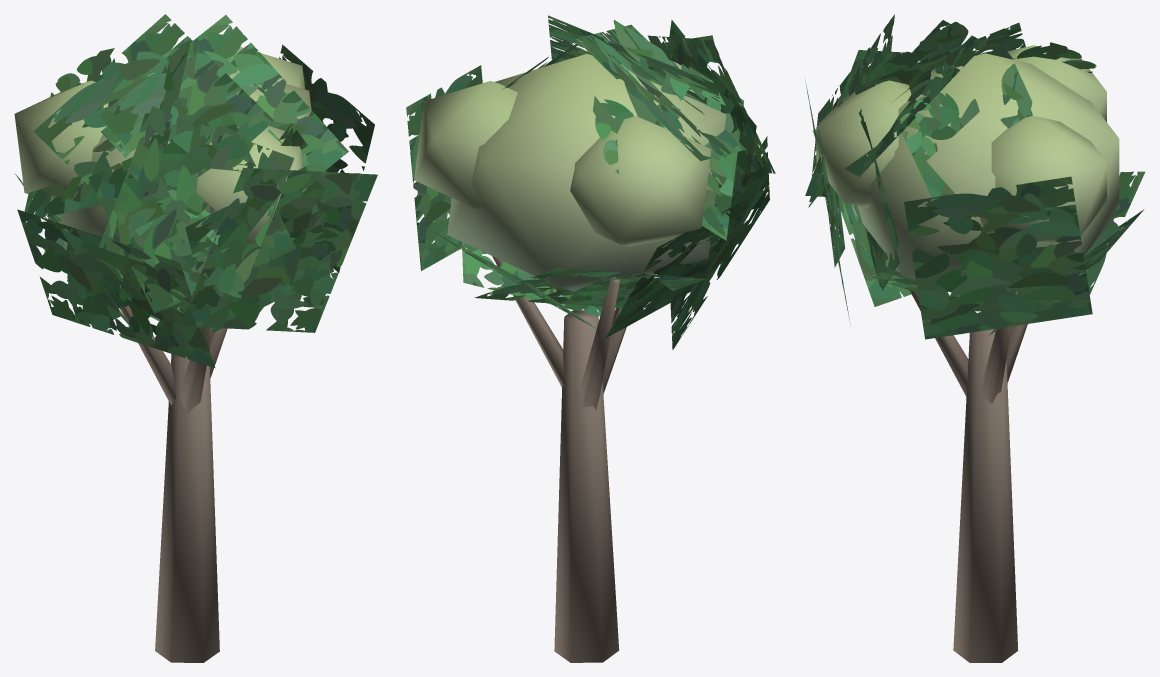
The model's file is tree-broadleaf-lod.glb.
3 renders of one model, left to right at view 1: azimuth 30°, elevation 25°; view 2: azimuth 150°, elevation 25°; view 3: azimuth 270°, elevation 25°, orthographic.
Parts seen in each view (by area): view 1: leaf-cards, trunk, canopy; view 2: canopy, leaf-cards, trunk; view 3: leaf-cards, canopy, trunk.
Part boxes in pixels (box(x1,y1,x2,y2)): leaf-cards: box(15, 14, 377, 367); trunk: box(120, 305, 227, 662); canopy: box(14, 47, 320, 275); canopy: box(414, 54, 726, 291); leaf-cards: box(406, 15, 775, 349); trunk: box(492, 256, 626, 662); leaf-cards: box(805, 14, 1144, 339); canopy: box(816, 45, 1119, 280); trunk: box(903, 278, 1027, 662).
Size of the model in its own units: 3.69 by 6.87 by 3.37.
3 materials, 1 textured.
